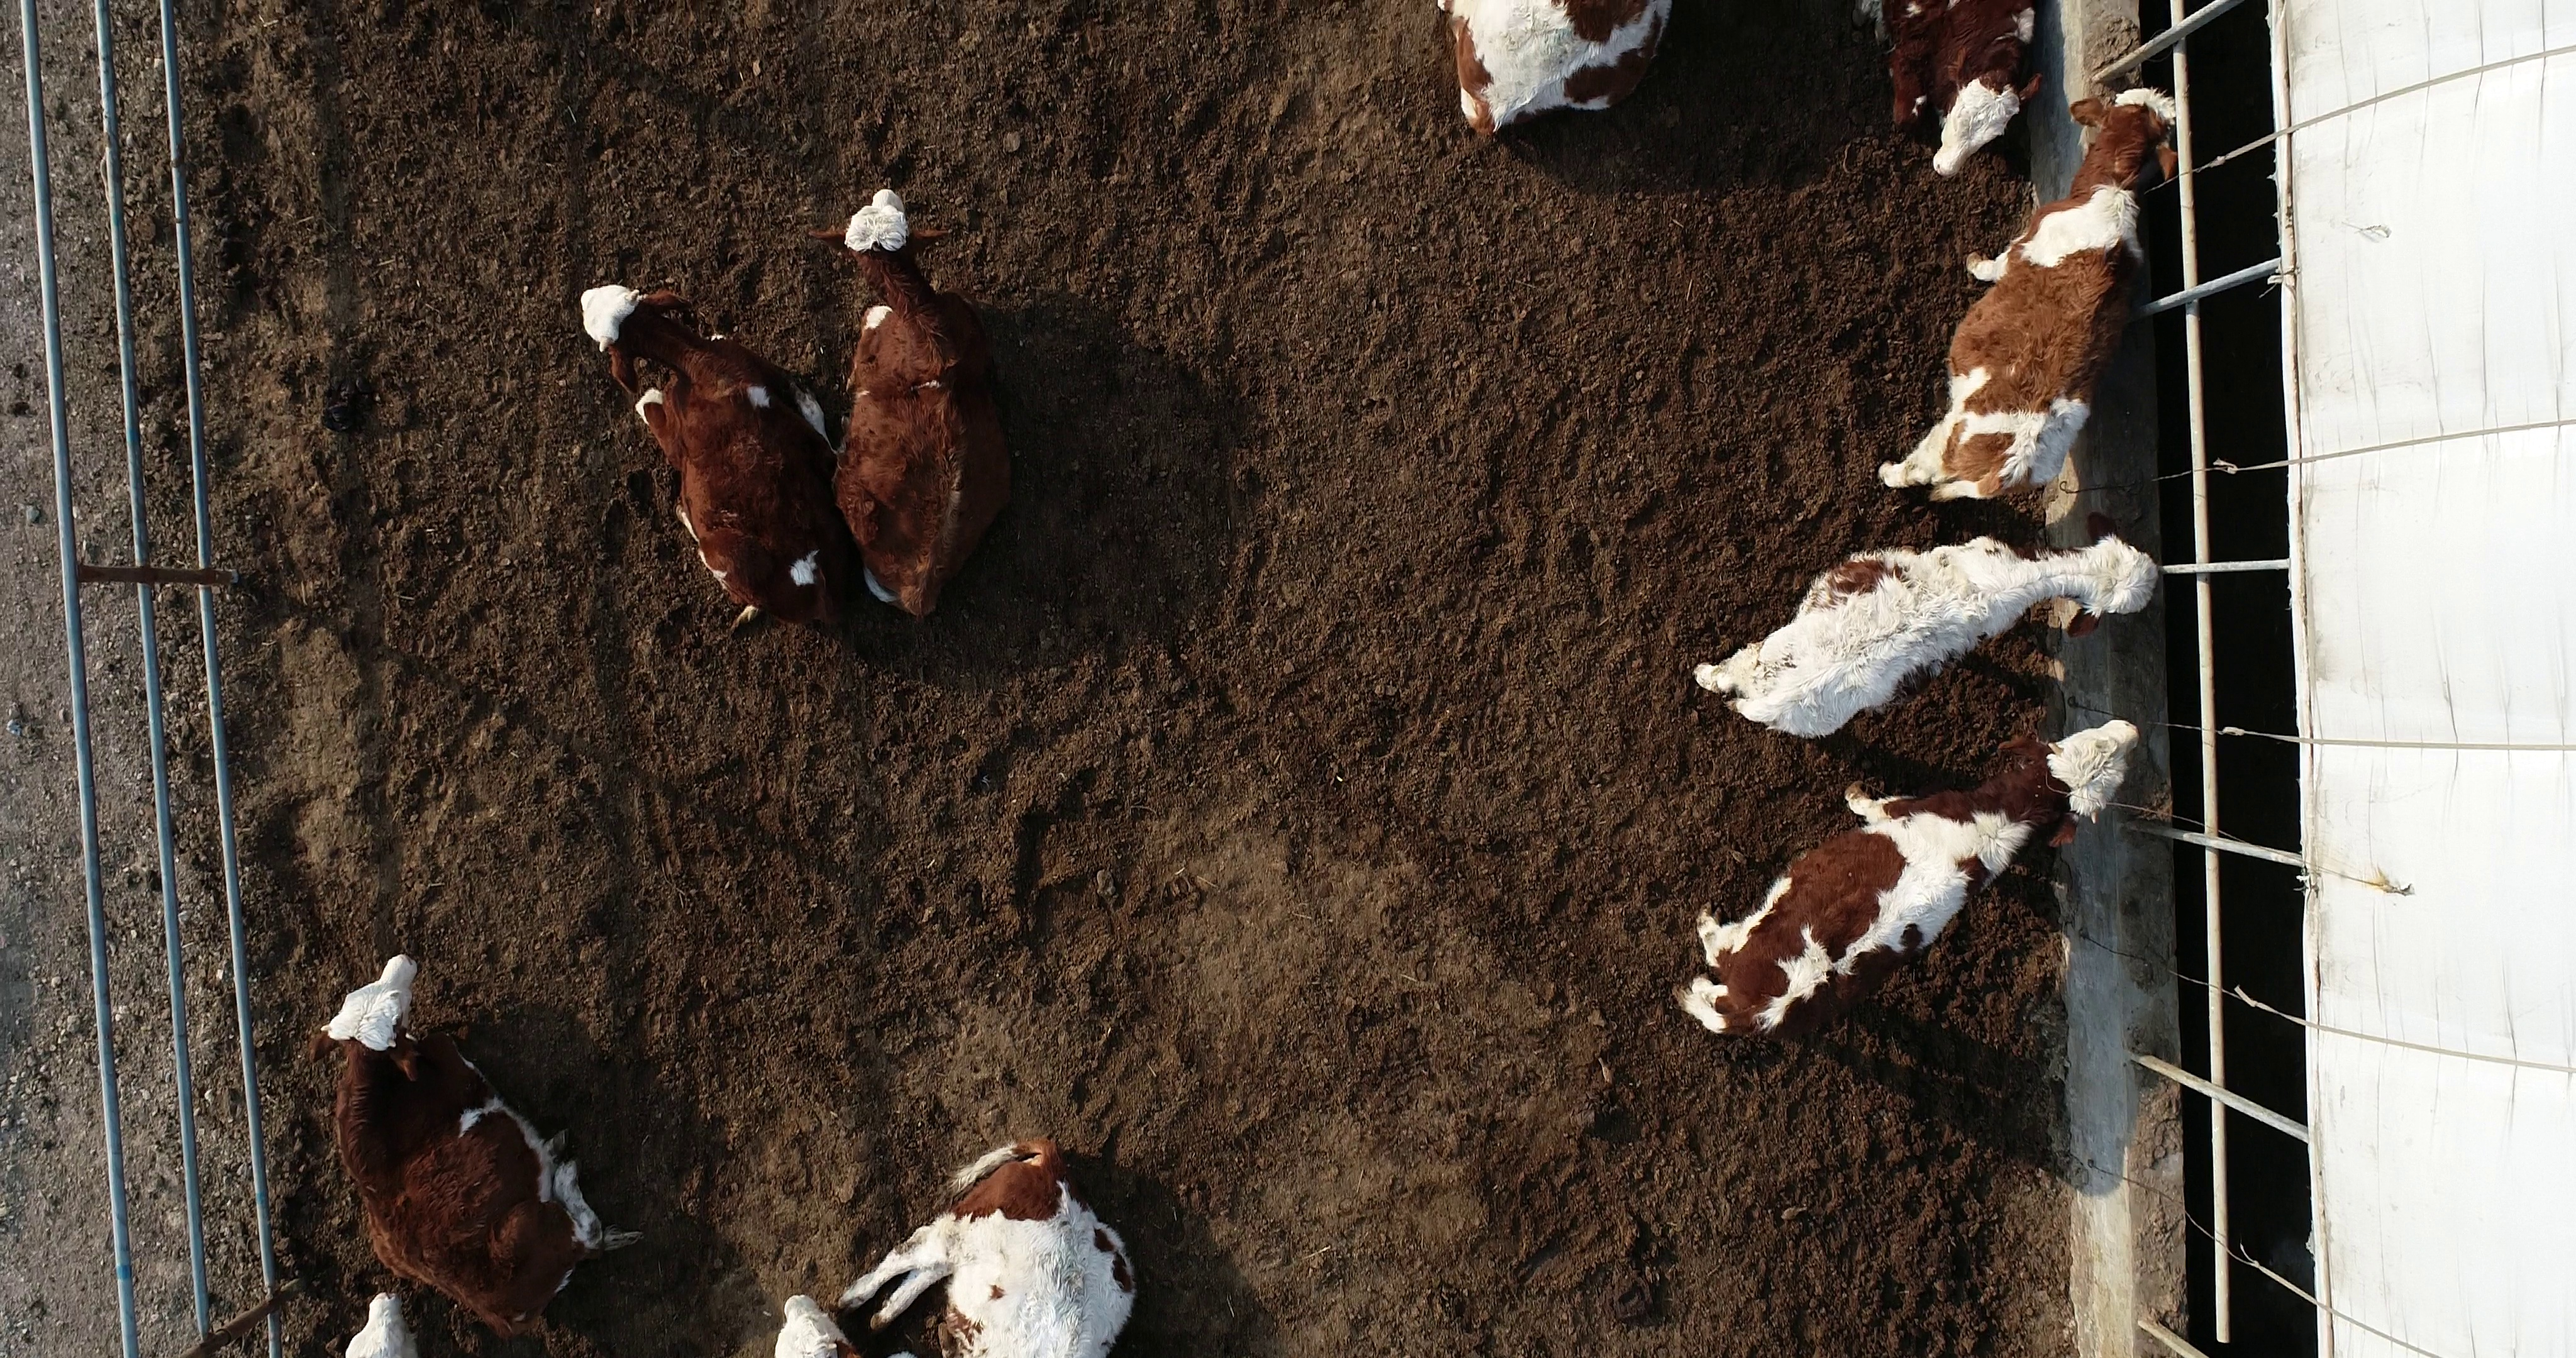cattle: (1661, 714, 2148, 1050), (295, 951, 649, 1346), (1871, 82, 2179, 509), (1682, 506, 2171, 750), (576, 273, 843, 641), (802, 182, 1019, 625)
